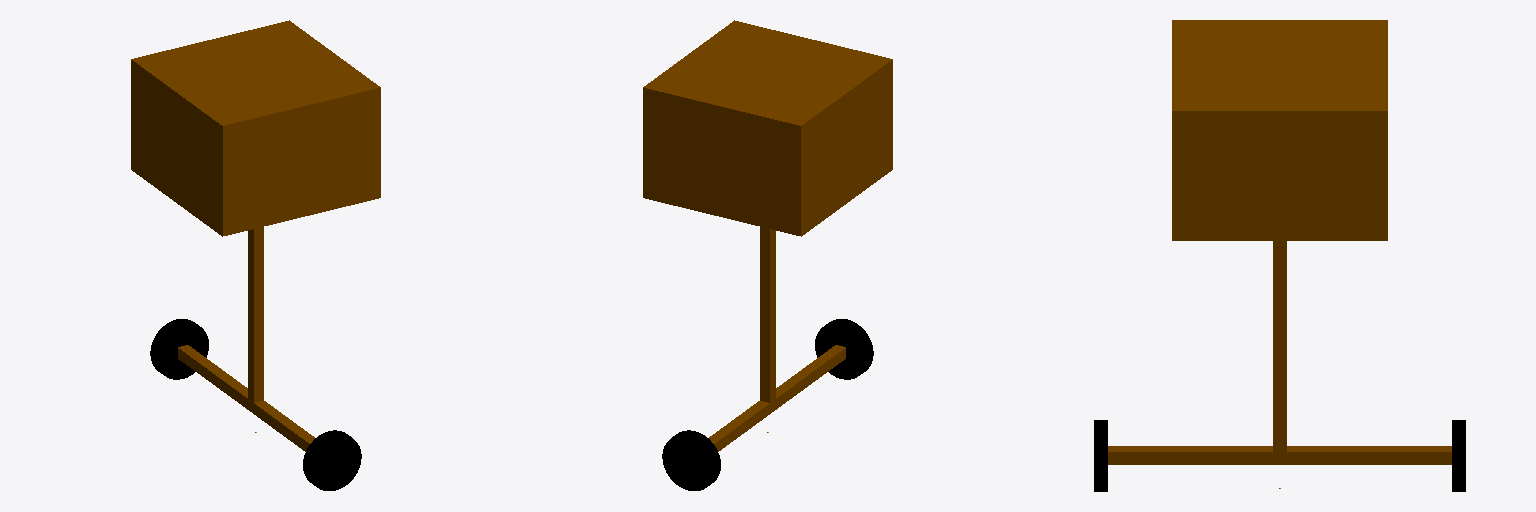
The robot description file, URDF, robot "robot_wbr":
<?xml version="1.0" ?>
<!-- =================================================================================== -->
<!-- |    This document was autogenerated by xacro from robot_lqr.xacro                | -->
<!-- |    EDITING THIS FILE BY HAND IS NOT RECOMMENDED                                 | -->
<!-- =================================================================================== -->
<robot name="robot_wbr">
  <!-- 宏:黑色设置 -->
  <material name="black">
    <color rgba="0.0 0.0 0.0 1.0"/>
  </material>
  <!-- 质量  -->
  <!-- 质量  -->
  <!-- 底盘 -->
  <link name="base_footprint">
    <visual>
      <geometry>
        <sphere radius="0.001"/>
      </geometry>
    </visual>
  </link>
  <link name="base_link">
    <visual>
      <geometry>
        <box size="0.02 0.5 0.02"/>
      </geometry>
      <origin rpy="0 0 0" xyz="0 0 0"/>
      <material name="yellow">
        <color rgba="0.5 0.3 0.0 0.5"/>
      </material>
    </visual>
    <collision>
      <geometry>
        <box size="0.02 0.5 0.02"/>
      </geometry>
      <origin rpy="0 0 0" xyz="0 0 0"/>
    </collision>
    <!-- <inertial> -->
    <mass value="0.01"/>
    <inertia ixx="0.00020866666666666668" ixy="0" ixz="0" iyy="6.666666666666668e-07" iyz="0" izz="0.00020866666666666668"/>
    <!-- </inertial> -->
  </link>
  <joint name="base_link2base_footprint" type="fixed">
    <parent link="base_footprint"/>
    <child link="base_link"/>
    <origin xyz="0 0 0.05"/>
  </joint>
  <gazebo reference="base_link">
    <material>Gazebo/Yellow</material>
  </gazebo>
  <link name="vertical_link">
    <visual>
      <geometry>
        <box size="0.02 0.02 0.5"/>
      </geometry>
      <origin rpy="0 0 0" xyz="0 0 0"/>
      <material name="yellow">
        <color rgba="0.5 0.3 0.0 0.5"/>
      </material>
    </visual>
    <collision>
      <geometry>
        <box size="0.02 0.02 0.5"/>
      </geometry>
      <origin rpy="0 0 0" xyz="0 0 0"/>
    </collision>
    <inertia>
      <!-- <inertial> -->
      <mass value="0.5"/>
      <inertia ixx="0.010433333333333334" ixy="0" ixz="0" iyy="0.010433333333333334" iyz="0" izz="3.3333333333333335e-05"/>
      <!-- </inertial> -->
    </inertia>
  </link>
  <joint name="base2vertial_link" type="fixed">
    <parent link="base_link"/>
    <child link="vertical_link"/>
    <origin xyz="0 0 0.25"/>
  </joint>
  <gazebo reference="vertical_link">
    <material>Gazebo/Yellow</material>
  </gazebo>
  <link name="left_wheel">
    <visual>
      <geometry>
        <cylinder length="0.02" radius="0.05"/>
      </geometry>
      <origin rpy="1.5707963 0.0 0.0" xyz="0.0 0.0 0.0"/>
      <material name="black"/>
    </visual>
    <collision>
      <geometry>
        <cylinder length="0.02" radius="0.05"/>
      </geometry>
      <origin rpy="1.5707963 0.0 0.0" xyz="0.0 0.0 0.0"/>
    </collision>
    <inertial>
      <mass value="0.8"/>
      <inertia ixx="0.0005266666666666667" ixy="0" ixz="0" iyy="0.0005266666666666667" iyz="0" izz="0.0010000000000000002"/>
    </inertial>
  </link>
  <joint name="left_wheel_joint" type="continuous">
    <parent link="base_link"/>
    <child link="left_wheel"/>
    <origin xyz="0 0.25 0 "/>
    <axis xyz="0 1 0"/>
  </joint>
  <gazebo reference="left_wheel">
    <material>Gazebo/Black</material>
  </gazebo>
  <link name="right_wheel">
    <visual>
      <geometry>
        <cylinder length="0.02" radius="0.05"/>
      </geometry>
      <origin rpy="1.5707963 0.0 0.0" xyz="0.0 0.0 0.0"/>
      <material name="black"/>
    </visual>
    <collision>
      <geometry>
        <cylinder length="0.02" radius="0.05"/>
      </geometry>
      <origin rpy="1.5707963 0.0 0.0" xyz="0.0 0.0 0.0"/>
    </collision>
    <inertial>
      <mass value="0.8"/>
      <inertia ixx="0.0005266666666666667" ixy="0" ixz="0" iyy="0.0005266666666666667" iyz="0" izz="0.0010000000000000002"/>
    </inertial>
  </link>
  <joint name="right_wheel_joint" type="continuous">
    <parent link="base_link"/>
    <child link="right_wheel"/>
    <origin xyz="0 -0.25 0 "/>
    <axis xyz="0 1 0"/>
  </joint>
  <gazebo reference="right_wheel">
    <material>Gazebo/Black</material>
  </gazebo>
  <link name="mass_link">
    <visual>
      <geometry>
        <box size="0.3 0.3 0.2"/>
      </geometry>
      <origin rpy="0 0 0" xyz="0 0 0"/>
      <material name="yellow">
        <color rgba="0.5 0.3 0.0 0.5"/>
      </material>
    </visual>
    <collision>
      <geometry>
        <box size="0.3 0.3 0.2"/>
      </geometry>
      <origin rpy="0 0 0" xyz="0 0 0"/>
    </collision>
    <inertia>
      <!-- <inertial> -->
      <mass value="10"/>
      <inertia ixx="0.10833333333333334" ixy="0" ixz="0" iyy="0.10833333333333334" iyz="0" izz="0.15"/>
      <!-- </inertial> -->
    </inertia>
  </link>
  <joint name="mass2vertial_joint" type="revolute">
    <parent link="vertical_link"/>
    <child link="mass_link"/>
    <origin xyz="0 0 0.25"/>
    <axis xyz="0 1 0"/>
    <limit effort="50" lower="-1.57" upper="1.57" velocity="20.0"/>
  </joint>
  <gazebo reference="mass_link">
    <material>Gazebo/Red</material>
  </gazebo>
  <!-- 调用机器人模型 -->
  <transmission name="right_wheel_joint_transmission">
    <type>transmission_interface/SimpleTransmission</type>
    <joint name="right_wheel_joint">
      <hardwareInterface>hardware_interface/EffortJointInterface</hardwareInterface>
      <!-- 在 Gazebo      当中用 ： EffortJointInterface -->
      <!-- 在 RobotHW     当中用 ： hardware_interface/EffortJointInterface -->
    </joint>
    <actuator name="right_wheel_joint_motor">
      <mechanicalReduction>1</mechanicalReduction>
      <hardwareInterface>hardware_interface/EffortJointInterface</hardwareInterface>
      <!-- 在 Indigo 之前的版本，hardwareInterface只在此处定义（和我noetic什么关系x） -->
    </actuator>
  </transmission>
  <transmission name="left_wheel_joint_transmission">
    <type>transmission_interface/SimpleTransmission</type>
    <joint name="left_wheel_joint">
      <hardwareInterface>hardware_interface/EffortJointInterface</hardwareInterface>
      <!-- 在 Gazebo      当中用 ： EffortJointInterface -->
      <!-- 在 RobotHW     当中用 ： hardware_interface/EffortJointInterface -->
    </joint>
    <actuator name="left_wheel_joint_motor">
      <mechanicalReduction>1</mechanicalReduction>
      <hardwareInterface>hardware_interface/EffortJointInterface</hardwareInterface>
      <!-- 在 Indigo 之前的版本，hardwareInterface只在此处定义（和我noetic什么关系x） -->
    </actuator>
  </transmission>
  <transmission name="mass2vertial_joint_transmission">
    <type>transmission_interface/SimpleTransmission</type>
    <joint name="mass2vertial_joint">
      <hardwareInterface>hardware_interface/EffortJointInterface</hardwareInterface>
      <!-- 在 Gazebo      当中用 ： EffortJointInterface -->
      <!-- 在 RobotHW     当中用 ： hardware_interface/EffortJointInterface -->
    </joint>
    <actuator name="mass2vertial_joint_motor">
      <mechanicalReduction>1</mechanicalReduction>
      <hardwareInterface>hardware_interface/EffortJointInterface</hardwareInterface>
      <!-- 在 Indigo 之前的版本，hardwareInterface只在此处定义（和我noetic什么关系x） -->
    </actuator>
  </transmission>
  <!-- 启动gazebo_ros_control 插件，命名空间设置为/robot_wbr -->
  <gazebo>
    <plugin filename="libgazebo_ros_control.so" name="gazebo_ros_control">
      <robotNamespace>/robot_lqr2</robotNamespace>
    </plugin>
  </gazebo>
  <!-- 绑定机器人驱动器（注意关节类型）+ 开启gazebo_ros_control 插件（注意命名空间）-->
  <!-- 由于imu与body是固连的，所以直接绑base_link ok-->
  <gazebo reference="mass_link">
    <gravity>true</gravity>
    <sensor name="imu_sensor" type="imu">
      <always_on>true</always_on>
      <update_rate>100</update_rate>
      <visualize>true</visualize>
      <topic>__default_topic__</topic>
      <plugin filename="libgazebo_ros_imu_sensor.so" name="imu_plugin">
        <topicName>imu</topicName>
        <bodyName>imu_link</bodyName>
        <!-- 此处也有一个bodyName -->
        <updateRateHZ>100.0</updateRateHZ>
        <gaussianNoise>0.0</gaussianNoise>
        <xyzOffset>0 0 0</xyzOffset>
        <rpyOffset>0 0 0</rpyOffset>
        <frameName>imu_link</frameName>
        <!-- 这个frameName是否可以使用imu_link 需要经过测试，因为原本这个代码的参考bodyName并非imu_link，这是我起的link名字 -->
      </plugin>
      <pose>0 0 0 0 0 0</pose>
    </sensor>
  </gazebo>
  <!-- 绑定外部传感器（内部传感器可以通过机器人状态读取） -->
</robot>

--- Facts derived from the render (not from the file) ---
The picture shows the robot from 3 angles, left to right: view 1: azimuth 30°, elevation 25°; view 2: azimuth 150°, elevation 25°; view 3: azimuth 270°, elevation 25°; orthographic projection.
Robot: robot_wbr — 6 links, 5 joints (1 revolute, 2 continuous, 2 fixed); root link base_footprint; default pose: every joint at zero.
Visible links, largest first — view 1: mass_link, vertical_link, right_wheel, base_link, left_wheel; view 2: mass_link, vertical_link, left_wheel, base_link, right_wheel; view 3: mass_link, base_link, vertical_link, left_wheel, right_wheel.
Link boxes in pixels (<box>): mass_link: <box>131,20,380,236</box>; vertical_link: <box>248,227,263,407</box>; right_wheel: <box>303,430,361,490</box>; base_link: <box>178,345,314,451</box>; left_wheel: <box>150,319,208,379</box>; mass_link: <box>643,20,892,236</box>; vertical_link: <box>760,227,775,406</box>; left_wheel: <box>662,430,720,490</box>; base_link: <box>709,345,845,451</box>; right_wheel: <box>815,319,873,379</box>; mass_link: <box>1172,20,1387,240</box>; base_link: <box>1108,446,1451,464</box>; vertical_link: <box>1273,241,1286,458</box>; left_wheel: <box>1452,420,1465,491</box>; right_wheel: <box>1094,420,1107,491</box>.
Size in the robot's own frame: 0.3 by 0.52 by 0.651 metres.
Geometry: primitives only (box / cylinder / sphere), no mesh files.
